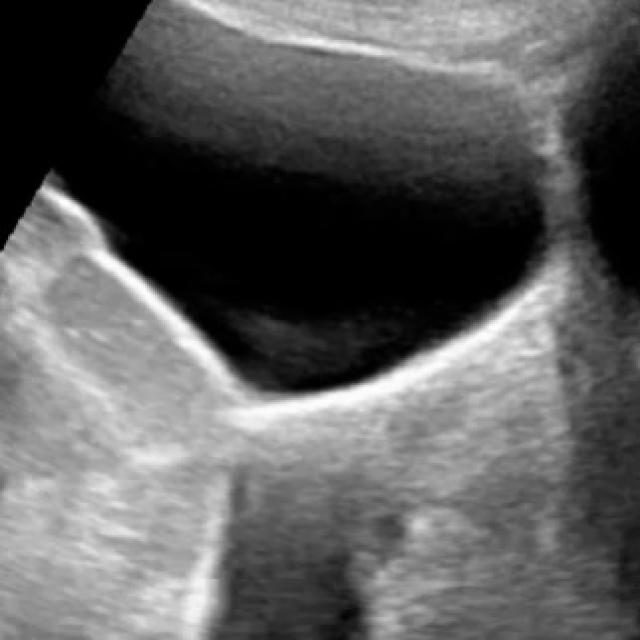bladder: (32, 0, 566, 445)
